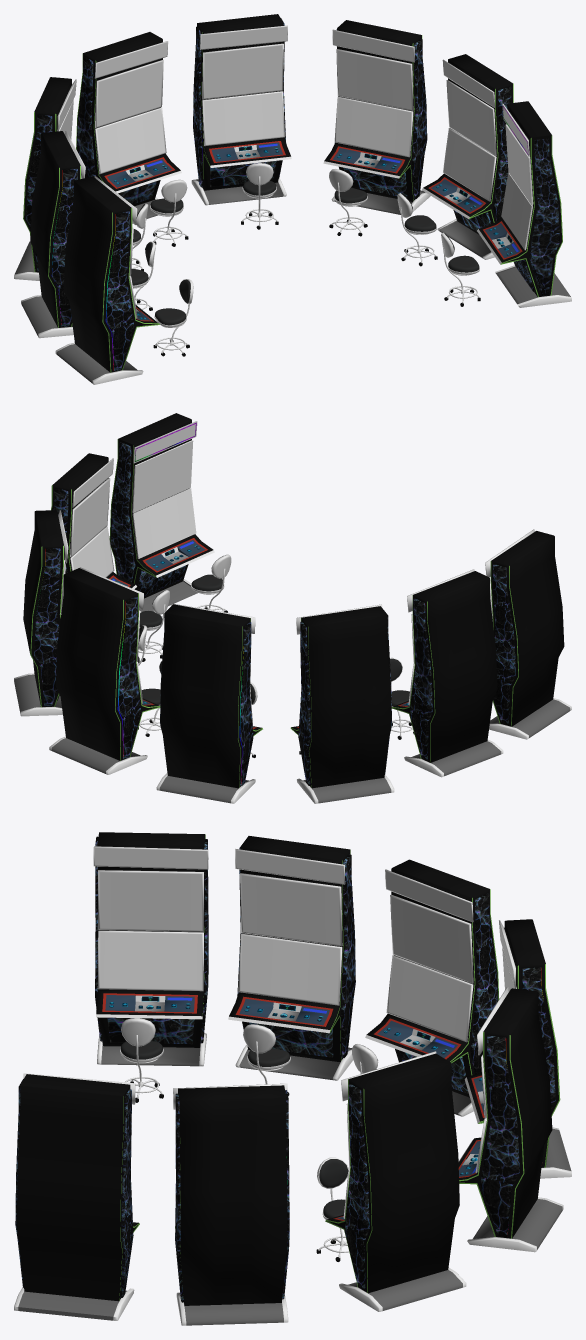
The model's file is SlotAutomatCollectionMiddleRoom.fbx.
3 renders of one model, top to bottom at view 1: azimuth 30°, elevation 25°; view 2: azimuth 150°, elevation 25°; view 3: azimuth 270°, elevation 25°, orthographic. The views are drawn at different scales.
Parts seen in each view (by area): view 1: SlotMashine.029, SlotMashine.024, SlotMashine.030, SlotMashine.052, SlotMashine.022, SlotMashine.023, SlotMashine.051, SlotMashine.031, GameChair.006, GameChair.037, GameChair.007, GameChair.063 (+3 smaller); view 2: SlotMashine.031, SlotMashine.030, SlotMashine.051, SlotMashine.029, SlotMashine.022, SlotMashine.052, SlotMashine.024, SlotMashine.023, GameChair.036, GameChair.035, GameChair.062, GameChair.006; view 3: SlotMashine.022, SlotMashine.023, SlotMashine.024, SlotMashine.051, SlotMashine.052, SlotMashine.031, SlotMashine.029, SlotMashine.030, GameChair.063, GameChair.062, GameChair.007.
Part boxes in pixels (<box>): SlotMashine.029: <box>191,14,291,205</box>; SlotMashine.024: <box>323,20,430,214</box>; SlotMashine.030: <box>76,32,181,223</box>; SlotMashine.052: <box>55,176,159,384</box>; SlotMashine.022: <box>477,101,571,307</box>; SlotMashine.023: <box>422,54,513,259</box>; SlotMashine.051: <box>21,131,85,338</box>; SlotMashine.031: <box>14,77,76,280</box>; GameChair.006: <box>241,163,278,229</box>; GameChair.037: <box>150,179,188,246</box>; GameChair.007: <box>329,169,367,236</box>; GameChair.063: <box>153,279,193,356</box>; SlotMashine.031: <box>290,604,394,803</box>; SlotMashine.030: <box>156,603,262,803</box>; SlotMashine.051: <box>391,569,503,777</box>; SlotMashine.029: <box>49,567,160,774</box>; SlotMashine.022: <box>109,413,214,612</box>; SlotMashine.052: <box>485,529,571,739</box>; SlotMashine.024: <box>14,510,68,716</box>; SlotMashine.023: <box>51,453,136,589</box>; GameChair.036: <box>191,554,231,612</box>; GameChair.035: <box>138,590,169,661</box>; GameChair.062: <box>390,657,414,739</box>; GameChair.006: <box>138,661,162,736</box>; SlotMashine.022: <box>14,1073,139,1320</box>; SlotMashine.023: <box>173,1083,289,1325</box>; SlotMashine.024: <box>325,1051,466,1311</box>; SlotMashine.051: <box>228,836,355,1080</box>; SlotMashine.052: <box>93,832,208,1066</box>; SlotMashine.031: <box>365,859,499,1116</box>; SlotMashine.029: <box>458,987,563,1252</box>; SlotMashine.030: <box>464,919,571,1178</box>; GameChair.063: <box>120,1018,163,1102</box>; GameChair.062: <box>243,1024,290,1095</box>; GameChair.007: <box>316,1157,349,1261</box>.
Bounding box in the file's own units: 853 × 294 × 693.
9 materials, 5 textured.
